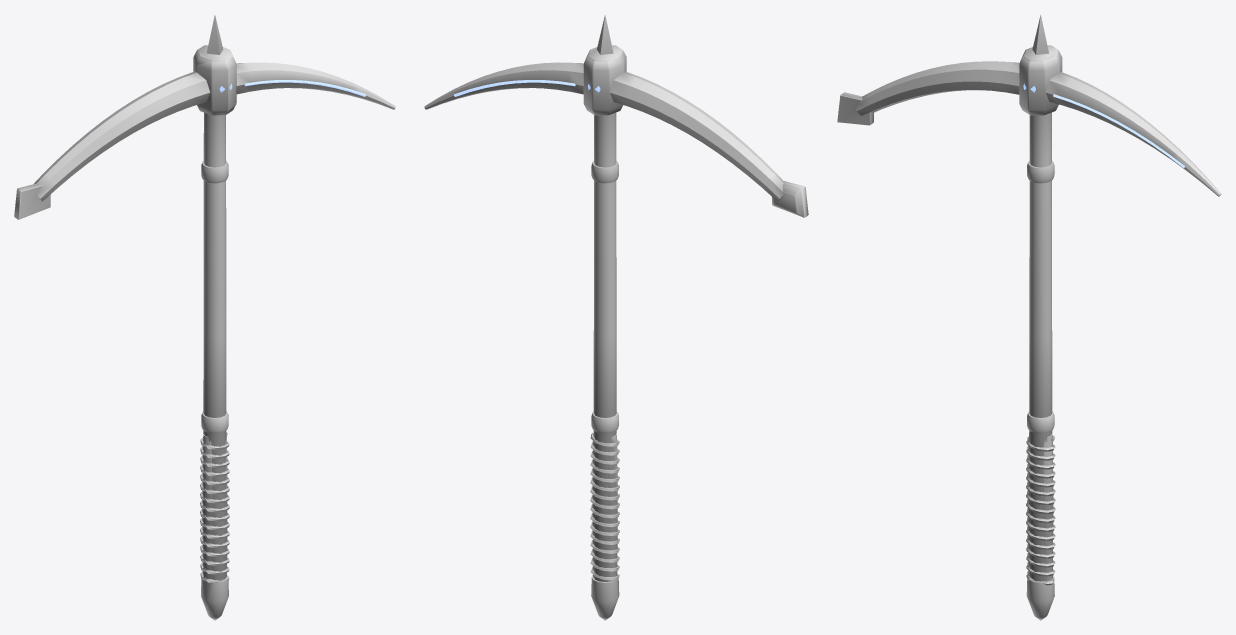
Rendered from pickaxe_rune.glb.
The picture shows the model from 3 angles, left to right: view 1: azimuth 30°, elevation 25°; view 2: azimuth 150°, elevation 25°; view 3: azimuth 330°, elevation 25°; orthographic projection.
Visible parts, largest first — view 1: pickaxe_rune; view 2: pickaxe_rune; view 3: pickaxe_rune.
Part boxes in pixels (<box>): pickaxe_rune: <box>14,15,395,620</box>; pickaxe_rune: <box>424,14,808,620</box>; pickaxe_rune: <box>837,14,1221,620</box>.
Bounding box in the file's own units: 0.6366 × 0.97 × 0.0739.
